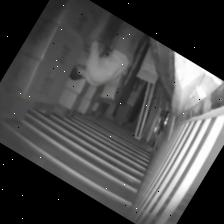person: (70, 22, 144, 85)
